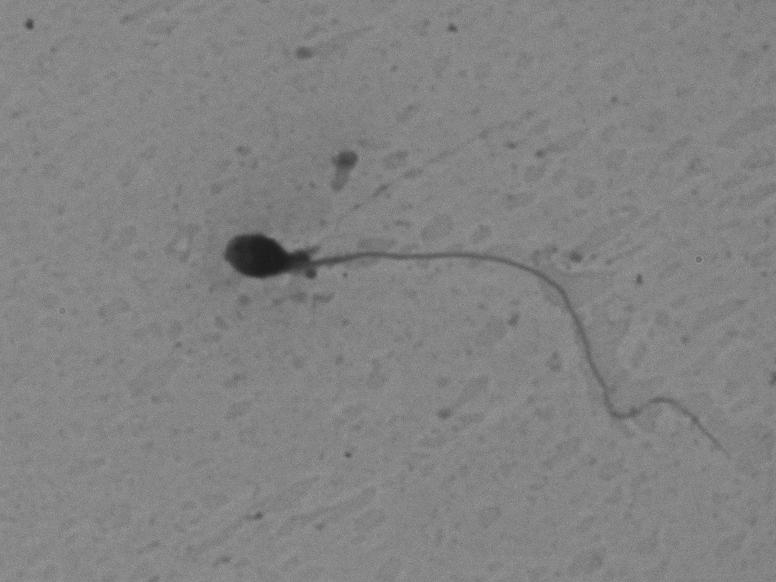Abnormal: (158, 190, 746, 483)
